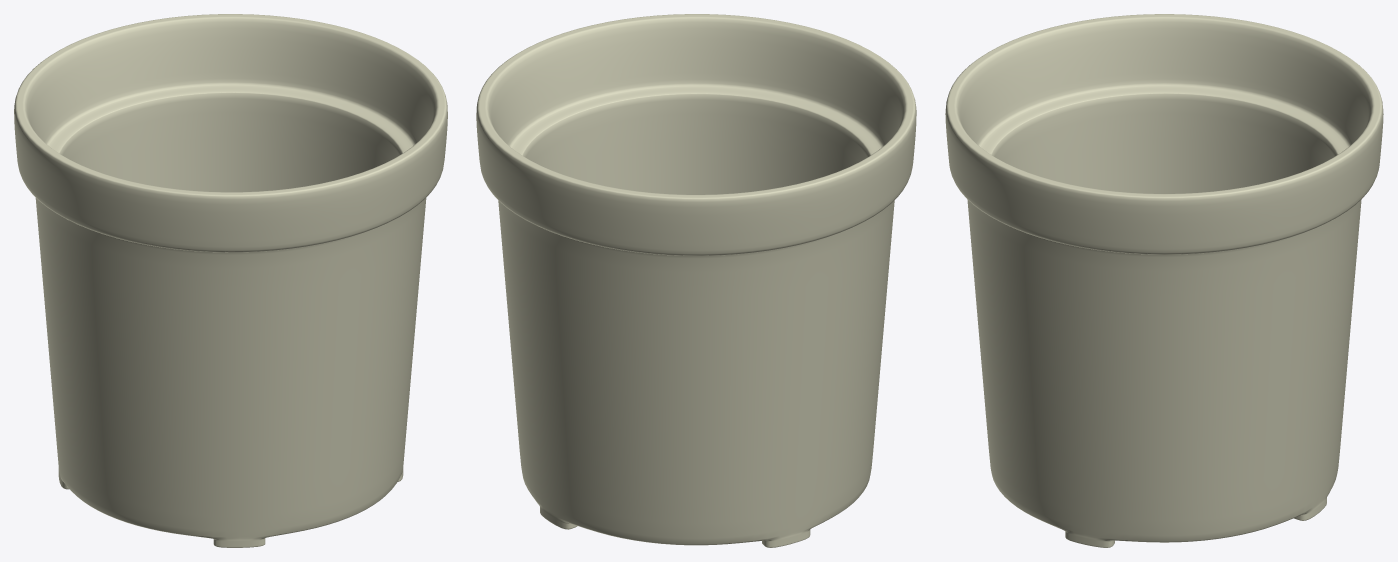
Rendered from pot-jaune-moitie-remplie_01.fbx.
3 views of the same model, side by side, from view 1: azimuth 30°, elevation 25°; view 2: azimuth 150°, elevation 25°; view 3: azimuth 270°, elevation 25° (orthographic).
Visible parts, largest first — view 1: pot_moitie_vide; view 2: pot_moitie_vide; view 3: pot_moitie_vide.
Part boxes in pixels (bbox=[...]): pot_moitie_vide: bbox=[14, 14, 447, 547]; pot_moitie_vide: bbox=[476, 14, 916, 547]; pot_moitie_vide: bbox=[945, 14, 1383, 547].
Size of the model in its own units: 2.48 by 2.34 by 2.48.
